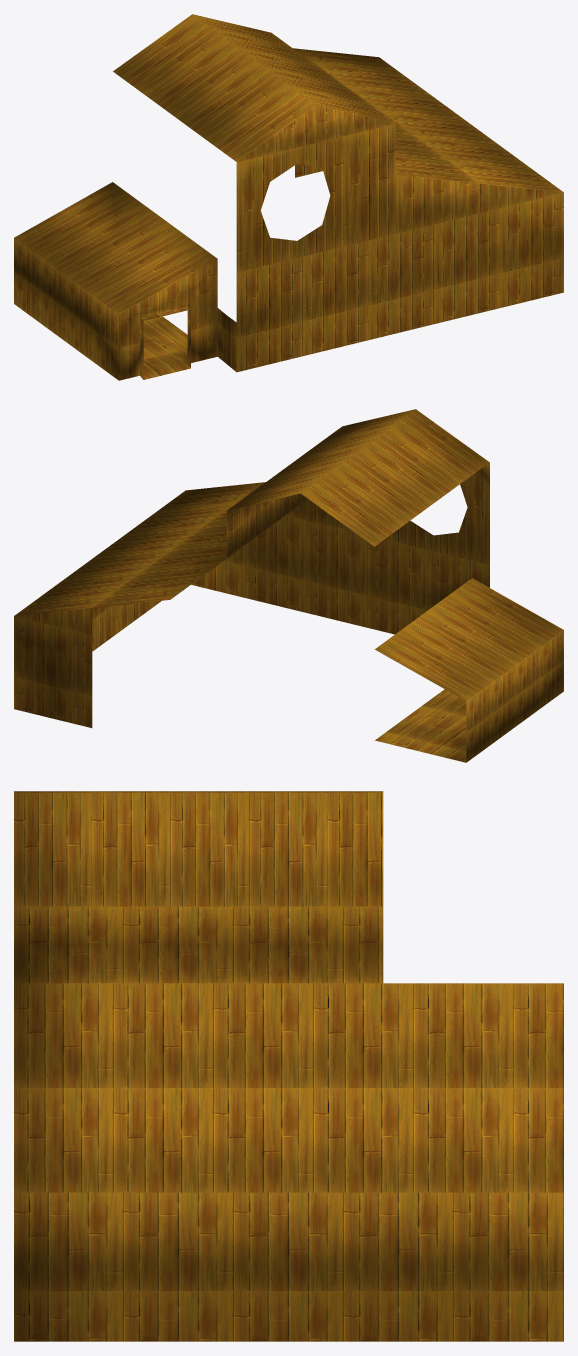
File: HTOWN01_MILL.fbx
3 views of the same model, one above another, from view 1: azimuth 30°, elevation 25°; view 2: azimuth 150°, elevation 25°; view 3: azimuth 270°, elevation 25° (orthographic). The views are drawn at different scales.
Parts seen in each view (by area): view 1: HTOWN01_MILL; view 2: HTOWN01_MILL; view 3: HTOWN01_MILL.
Boxes of the visible parts, x1,y1,x2,y2 form: HTOWN01_MILL: [14, 14, 563, 380]; HTOWN01_MILL: [14, 409, 563, 762]; HTOWN01_MILL: [14, 791, 563, 1341].
Bounding box in the file's own units: 166952 × 92878 × 125391.
1 material, 1 textured.
